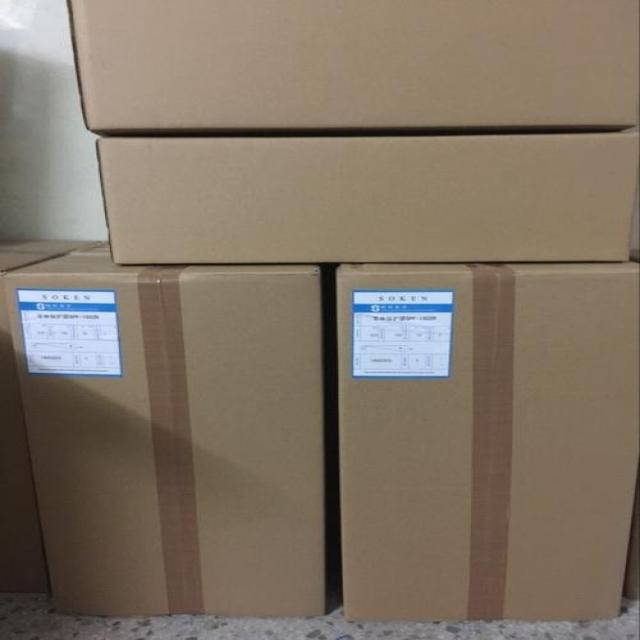box: (2, 241, 325, 616), (336, 262, 639, 622), (66, 0, 639, 137), (96, 132, 639, 265), (0, 276, 49, 591), (0, 239, 101, 272)
